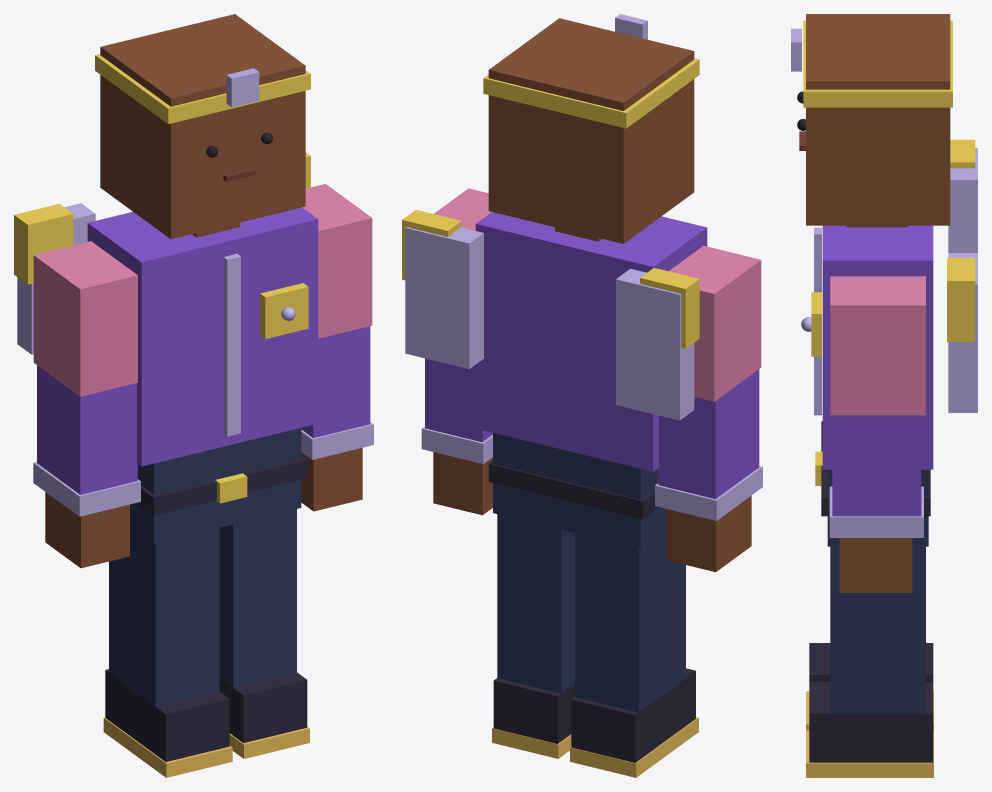
Rendered from rhea_star_scout.glb.
3 views of the same model, side by side, from view 1: azimuth 30°, elevation 25°; view 2: azimuth 150°, elevation 25°; view 3: azimuth 270°, elevation 25° (orthographic). The views are drawn at different scales.
Parts seen in each view (by area): view 1: rhea_star_scout_torso, rhea_star_scout_head, rhea_star_scout_left_leg, rhea_star_scout_left_upper_sleeve, rhea_star_scout_right_leg, rhea_star_scout_waist, rhea_star_scout_left_forearm, rhea_star_scout_right_upper_sleeve, rhea_star_scout_left_boot, rhea_star_scout_right_forearm, rhea_star_scout_right_boot, rhea_star_scout_left_hand (+13 smaller); view 2: rhea_star_scout_torso, rhea_star_scout_head, rhea_star_scout_left_leg, rhea_star_scout_right_leg, rhea_star_scout_waist, rhea_star_scout_right_wing, rhea_star_scout_left_wing, rhea_star_scout_left_upper_sleeve, rhea_star_scout_left_forearm, rhea_star_scout_left_boot, rhea_star_scout_left_hand, rhea_star_scout_right_boot (+12 smaller); view 3: rhea_star_scout_head, rhea_star_scout_right_upper_sleeve, rhea_star_scout_right_leg, rhea_star_scout_torso, rhea_star_scout_right_forearm, rhea_star_scout_right_boot, rhea_star_scout_right_hand, rhea_star_scout_star_headband, rhea_star_scout_right_wing, rhea_star_scout_left_wing, rhea_star_scout_right_wing_tip, rhea_star_scout_right_cuff (+8 smaller).
Part boxes in pixels (bbox=[...]): rhea_star_scout_torso: bbox=[87, 207, 318, 466]; rhea_star_scout_head: bbox=[100, 14, 305, 239]; rhea_star_scout_left_leg: bbox=[109, 526, 219, 706]; rhea_star_scout_left_upper_sleeve: bbox=[33, 241, 137, 396]; rhea_star_scout_right_leg: bbox=[219, 509, 296, 687]; rhea_star_scout_waist: bbox=[130, 428, 301, 543]; rhea_star_scout_left_forearm: bbox=[37, 365, 137, 494]; rhea_star_scout_right_upper_sleeve: bbox=[302, 184, 372, 338]; rhea_star_scout_left_boot: bbox=[105, 669, 229, 761]; rhea_star_scout_right_forearm: bbox=[301, 326, 370, 437]; rhea_star_scout_right_boot: bbox=[219, 672, 307, 742]; rhea_star_scout_left_hand: bbox=[45, 492, 129, 568]; rhea_star_scout_torso: bbox=[475, 212, 707, 471]; rhea_star_scout_head: bbox=[488, 18, 694, 243]; rhea_star_scout_left_leg: bbox=[575, 530, 685, 712]; rhea_star_scout_right_leg: bbox=[497, 514, 574, 693]; rhea_star_scout_waist: bbox=[493, 433, 666, 548]; rhea_star_scout_right_wing: bbox=[405, 227, 483, 369]; rhea_star_scout_left_wing: bbox=[616, 268, 694, 420]; rhea_star_scout_left_upper_sleeve: bbox=[669, 245, 761, 401]; rhea_star_scout_left_forearm: bbox=[658, 369, 759, 498]; rhea_star_scout_left_boot: bbox=[571, 668, 695, 762]; rhea_star_scout_left_hand: bbox=[666, 495, 751, 572]; rhea_star_scout_right_boot: bbox=[493, 678, 574, 743]; rhea_star_scout_head: bbox=[806, 14, 950, 225]; rhea_star_scout_right_upper_sleeve: bbox=[830, 276, 925, 415]; rhea_star_scout_right_leg: bbox=[830, 546, 925, 713]; rhea_star_scout_torso: bbox=[822, 225, 933, 469]; rhea_star_scout_right_forearm: bbox=[832, 415, 921, 516]; rhea_star_scout_right_boot: bbox=[809, 682, 933, 762]; rhea_star_scout_right_hand: bbox=[839, 538, 912, 592]; rhea_star_scout_star_headband: bbox=[803, 20, 952, 107]; rhea_star_scout_right_wing: bbox=[948, 253, 977, 412]; rhea_star_scout_left_wing: bbox=[948, 148, 977, 252]; rhea_star_scout_right_wing_tip: bbox=[947, 258, 975, 341]; rhea_star_scout_right_cuff: bbox=[829, 486, 923, 537].
Size of the model in its own units: 0.516 by 1.16 by 0.277.
